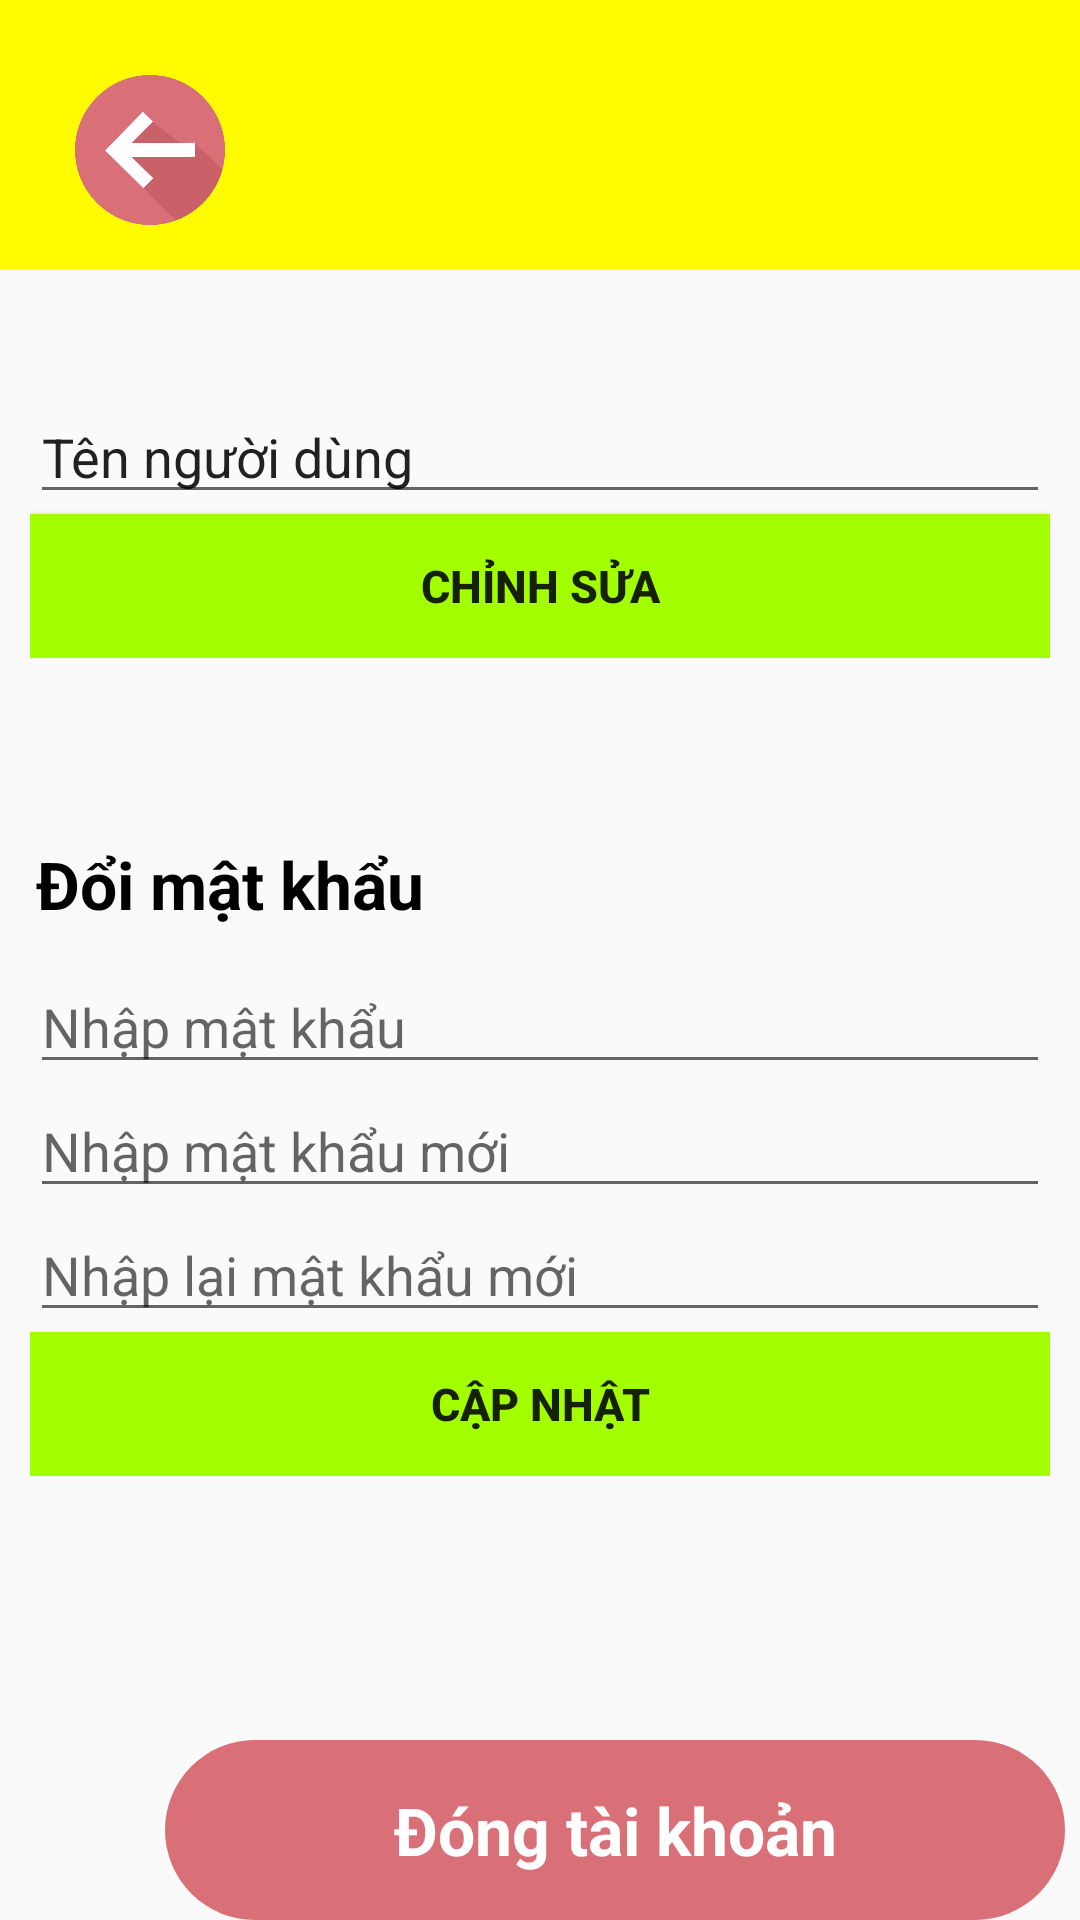

Point at icon controls on the screen. Image size 1080 × 1920, points as (x,y).
back: (150,150)
